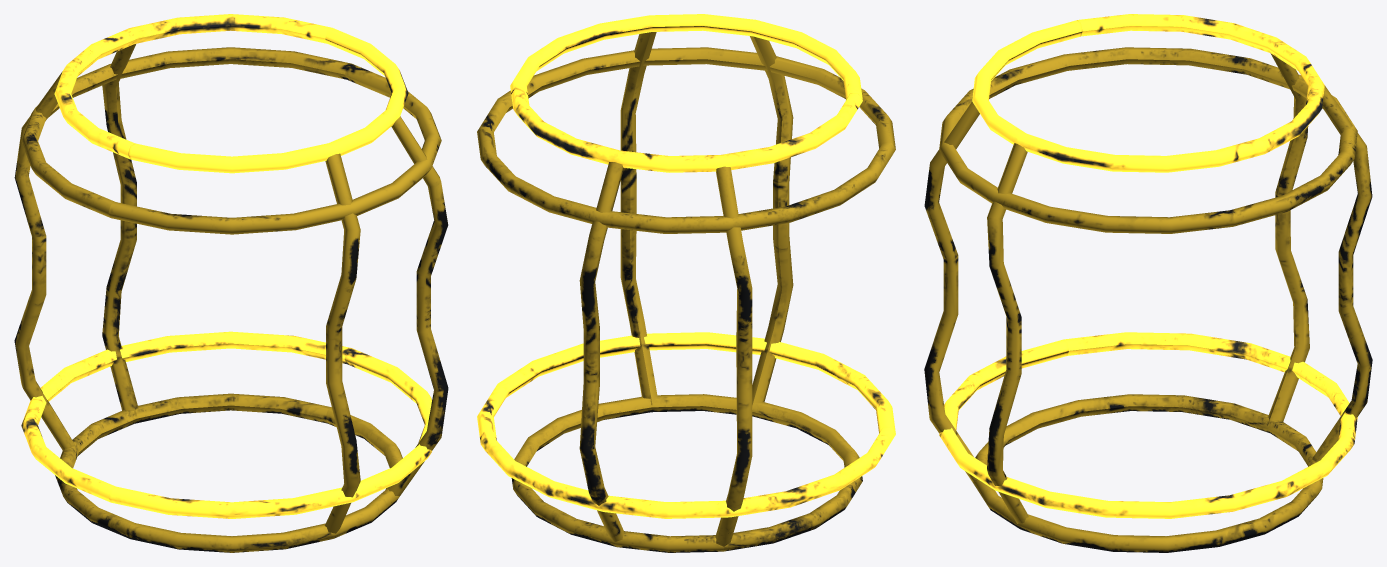
The model's file is FUT0410021.fbx.
The picture shows the model from 3 angles, left to right: view 1: azimuth 30°, elevation 25°; view 2: azimuth 150°, elevation 25°; view 3: azimuth 270°, elevation 25°; orthographic projection.
Visible parts, largest first — view 1: smFUT0410021; view 2: smFUT0410021; view 3: smFUT0410021.
Boxes of the visible parts, x1=… form: smFUT0410021: x1=14, y1=14, x2=448, y2=552; smFUT0410021: x1=477, y1=14, x2=895, y2=552; smFUT0410021: x1=924, y1=14, x2=1372, y2=552.
Bounding box in the file's own units: 106 × 110 × 114.
1 material, 1 textured.
